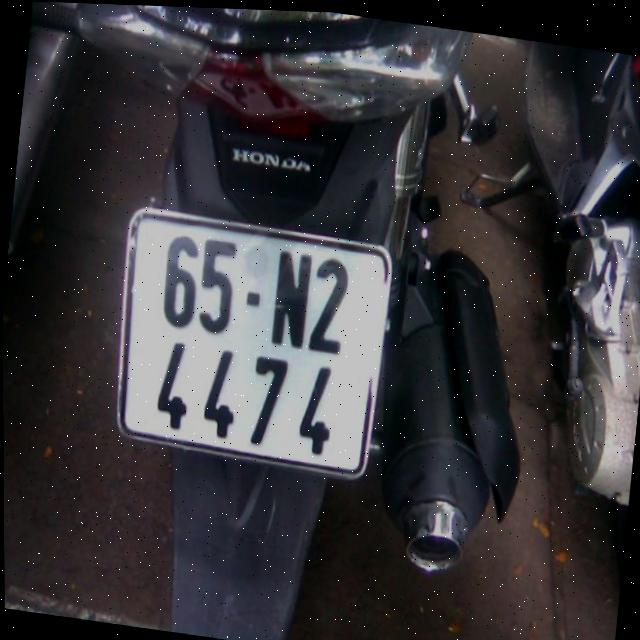motorcycle: (3, 0, 567, 640), (453, 34, 640, 536)
plate: (103, 200, 394, 481)
